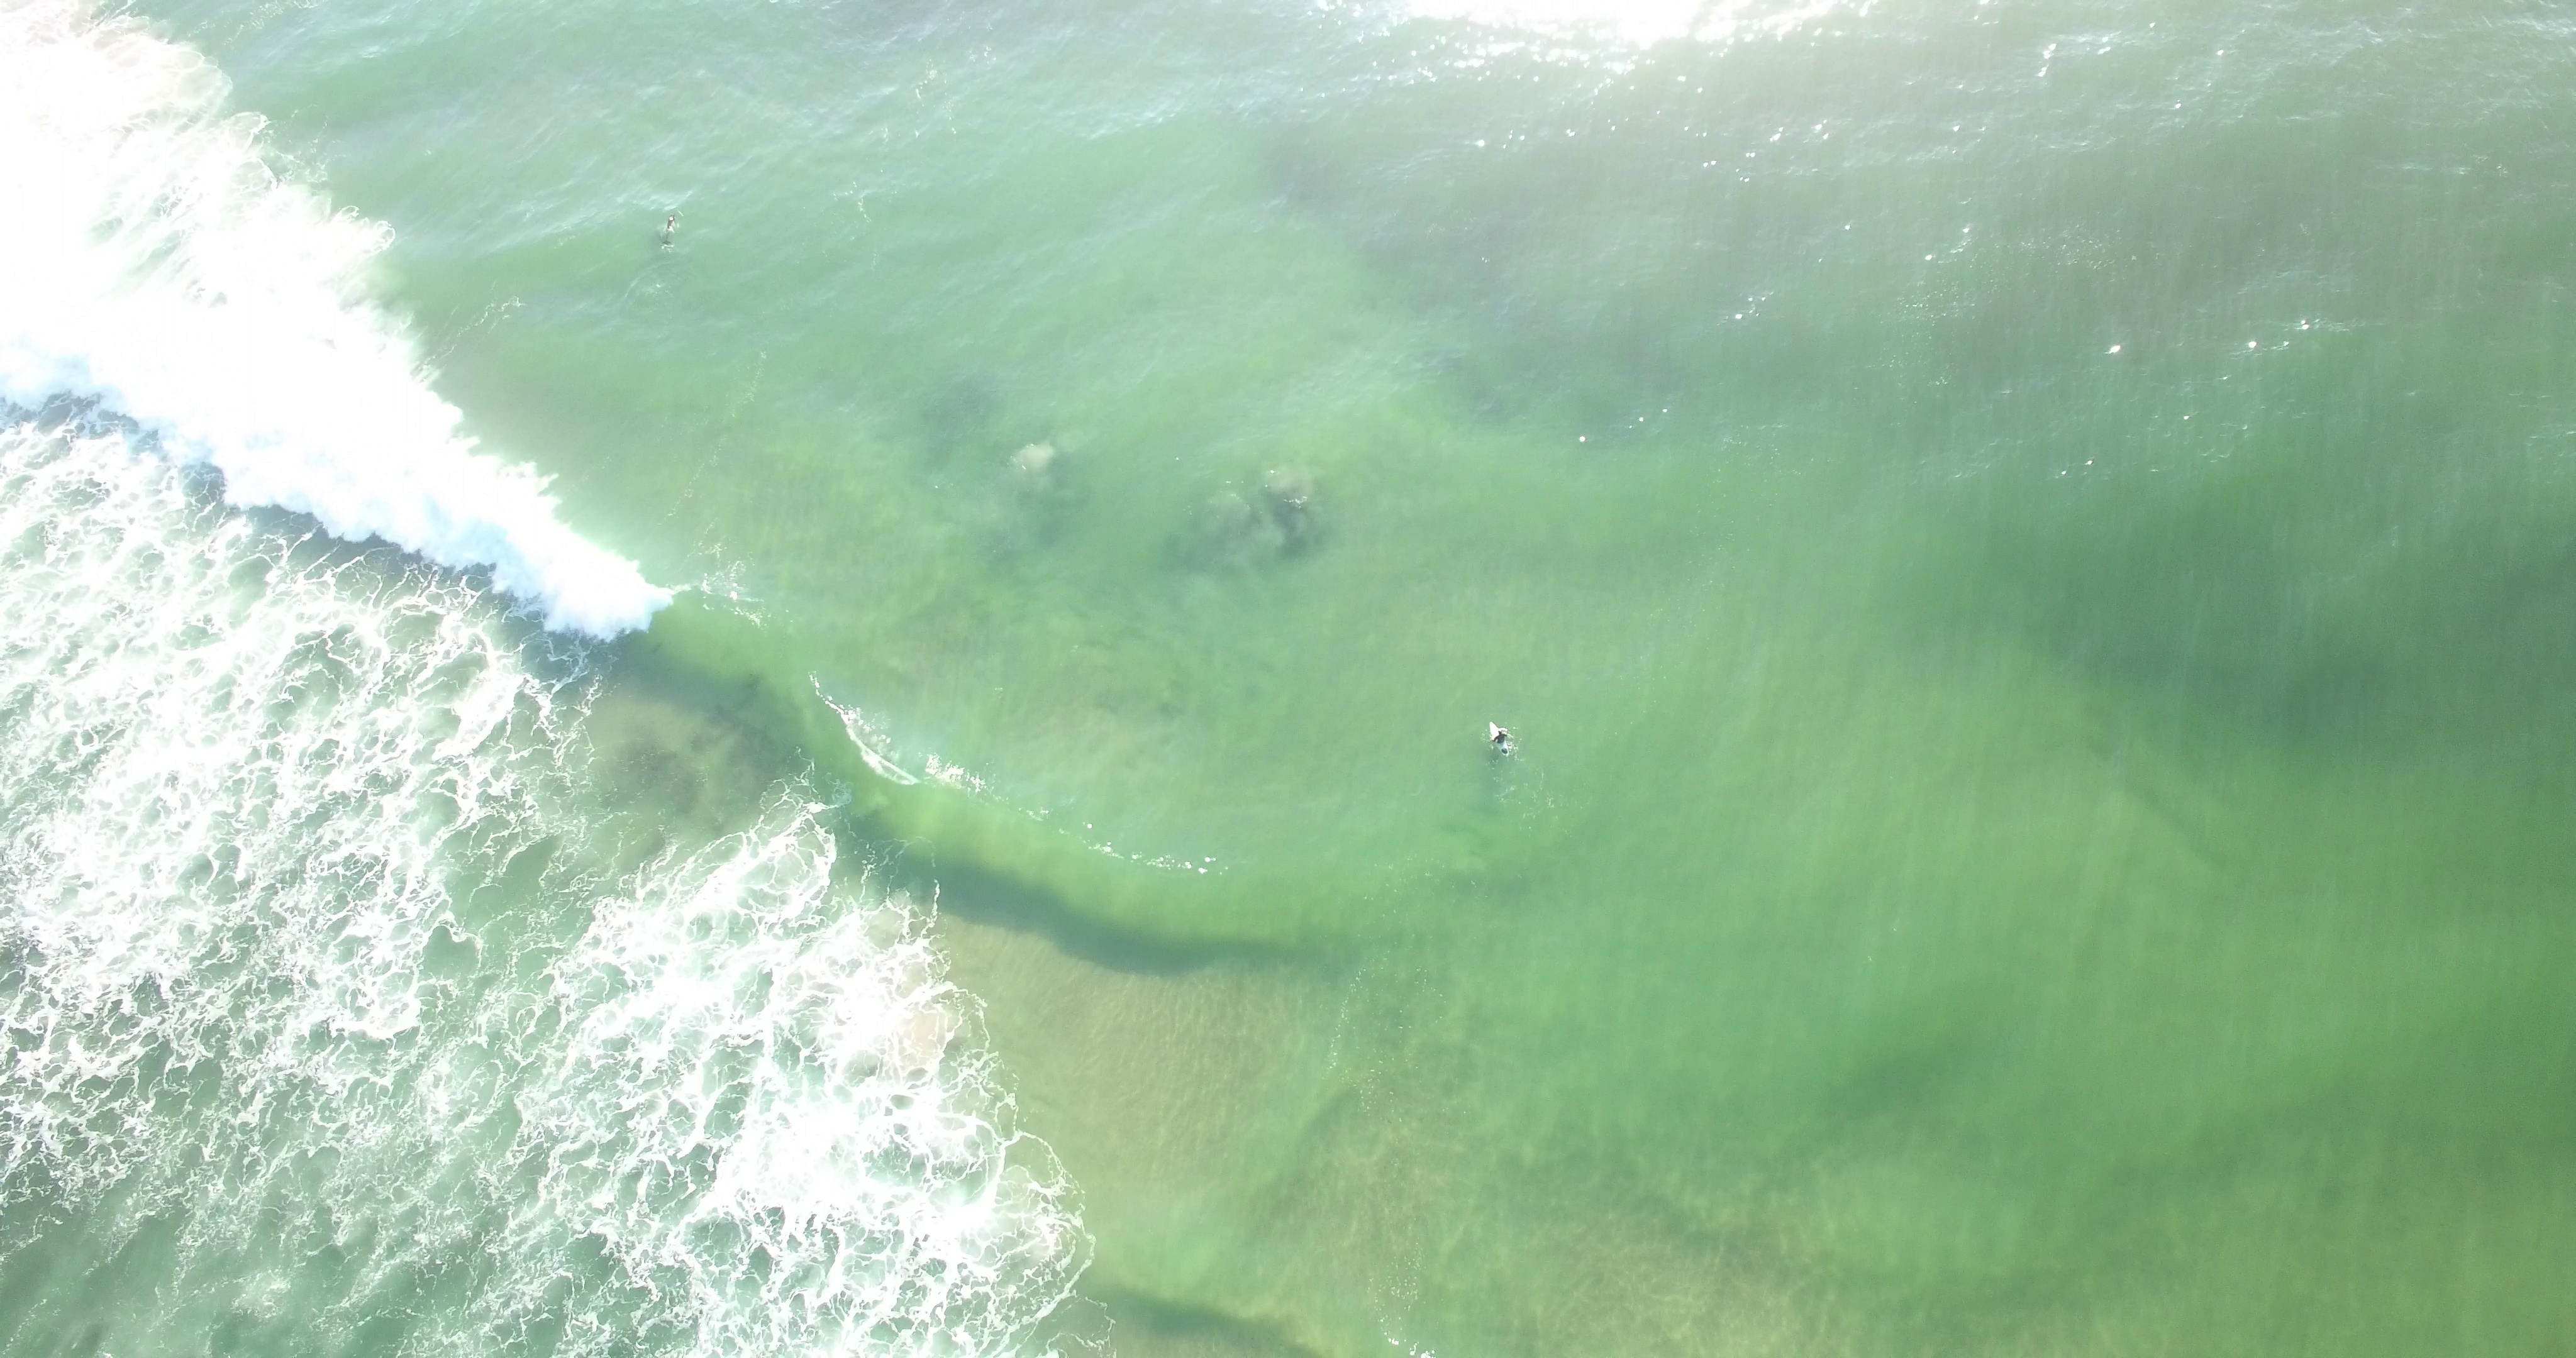dolphin: (658, 210, 678, 250)
surfer: (1486, 719, 1511, 758)
